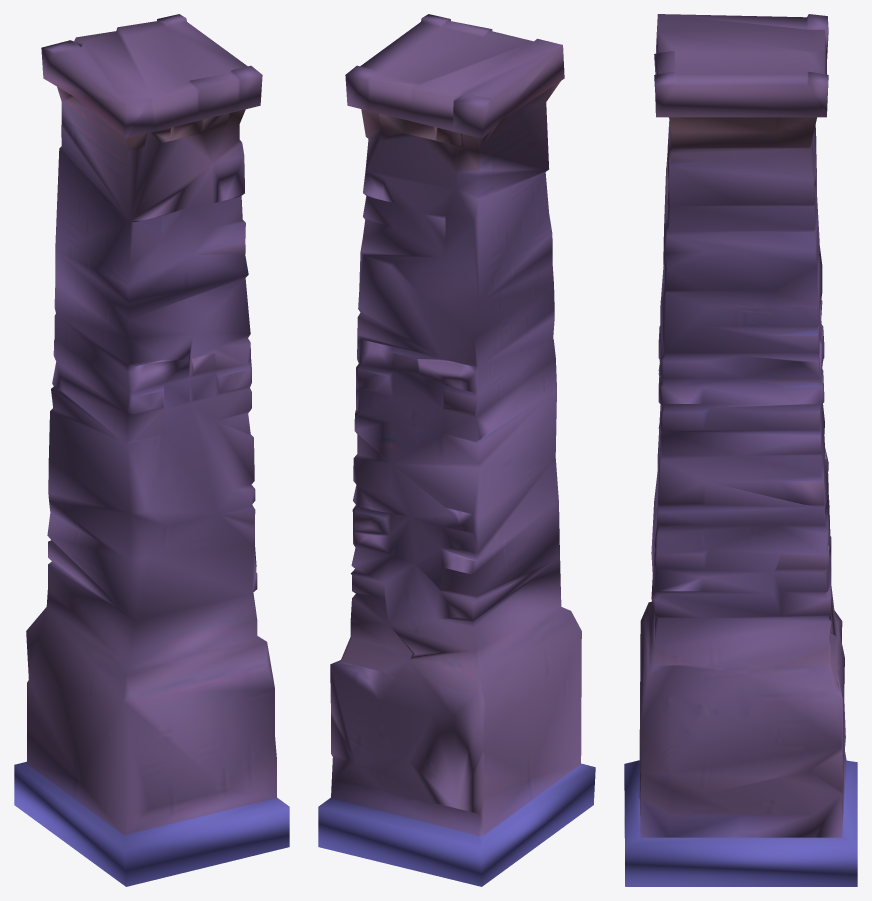
Rendered from model.progressive.glb.
3 renders of one model, left to right at view 1: azimuth 30°, elevation 25°; view 2: azimuth 150°, elevation 25°; view 3: azimuth 270°, elevation 25°, orthographic. The views are drawn at different scales.
Visible parts, largest first — view 1: material; view 2: material; view 3: material.
Part boxes in pixels (x1=…): material: x1=14, y1=14, x2=289, y2=886; material: x1=318, y1=14, x2=595, y2=886; material: x1=624, y1=14, x2=857, y2=886.
Bounding box in the file's own units: 0.4277 × 1.9 × 0.5038.
Materials: 1 (1 with a texture image).
